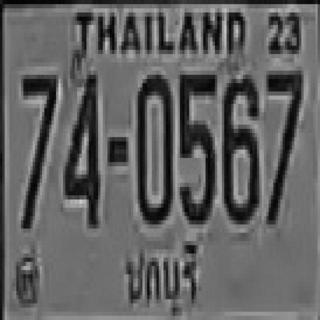N00: (136, 73, 170, 222)
N04: (63, 71, 98, 224)
N05: (178, 71, 215, 220)
N06: (222, 71, 257, 220)
N07: (264, 67, 301, 220), (21, 70, 56, 228)
P13: (119, 238, 202, 320)
